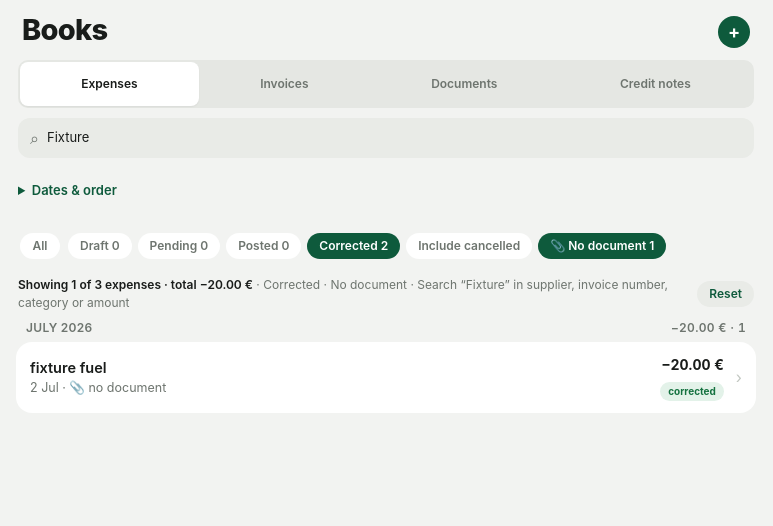
Scenario: Books active restrictions + Reset (issue #274) › Reset clears filters AND search, keeps seg/unrelated/state, replaces history, focuses All
Click the button with aria-label "Reset filters, search, dates and order". click: (726, 294)
box: [697,272,754,316]
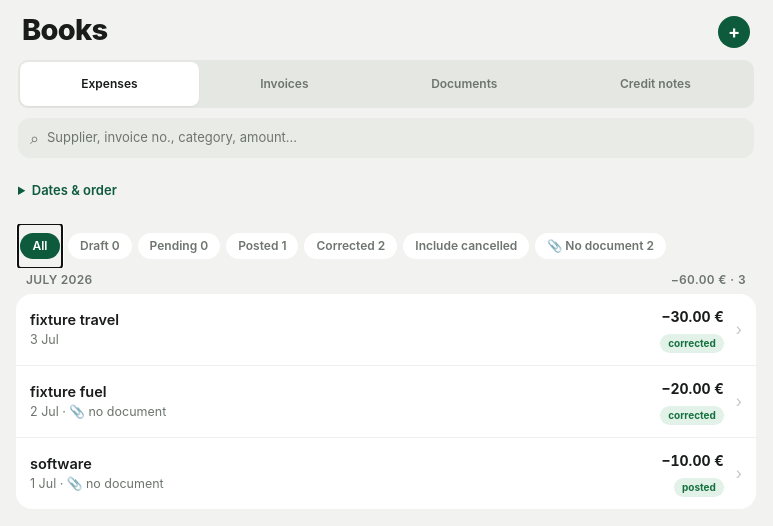
Now the search field is empty, box [47,128,742,147]
